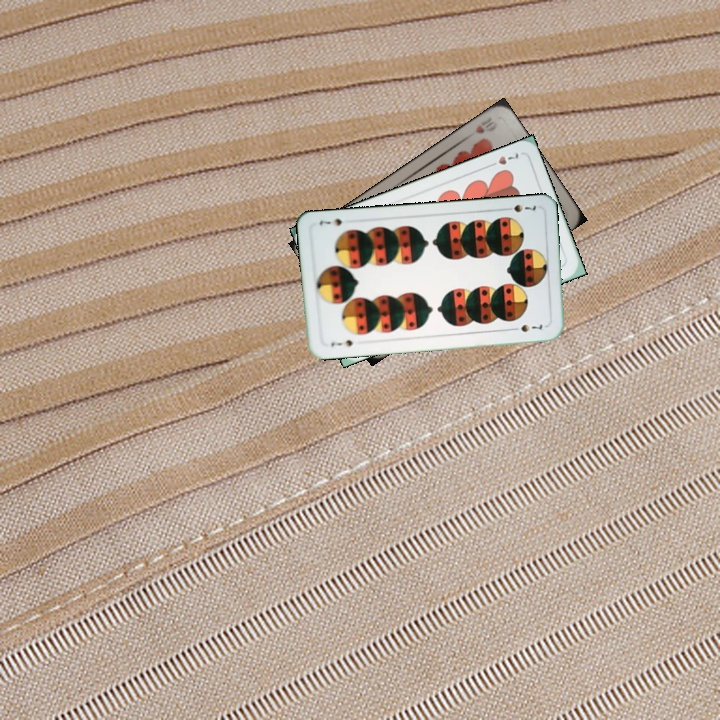H10: (471, 112, 496, 136)
H7: (484, 148, 521, 170)
S7: (500, 200, 538, 215), (327, 336, 355, 349)
